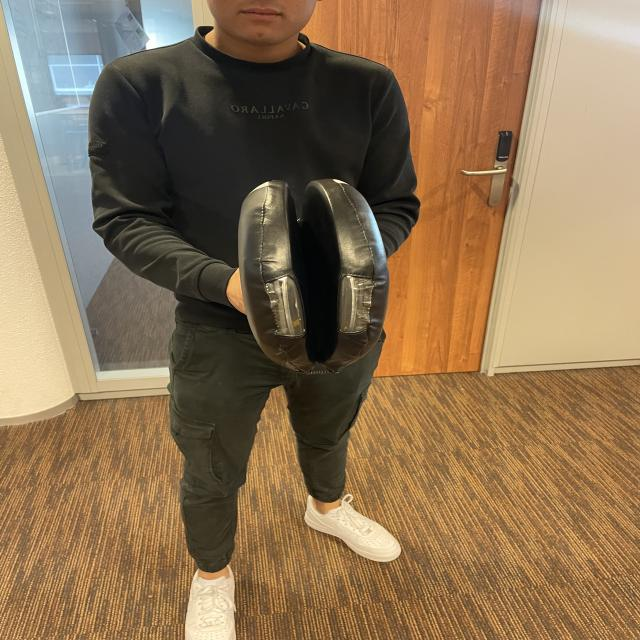paddle: (237, 177, 384, 374)
